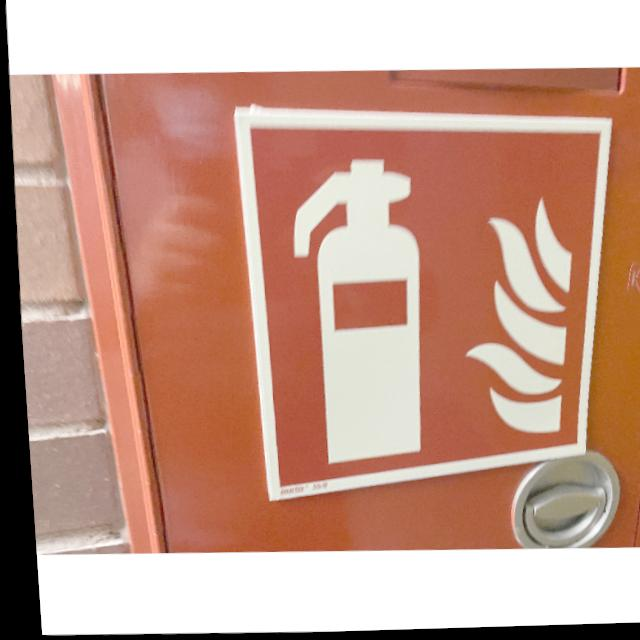fire extinguisher: (224, 99, 629, 509)
